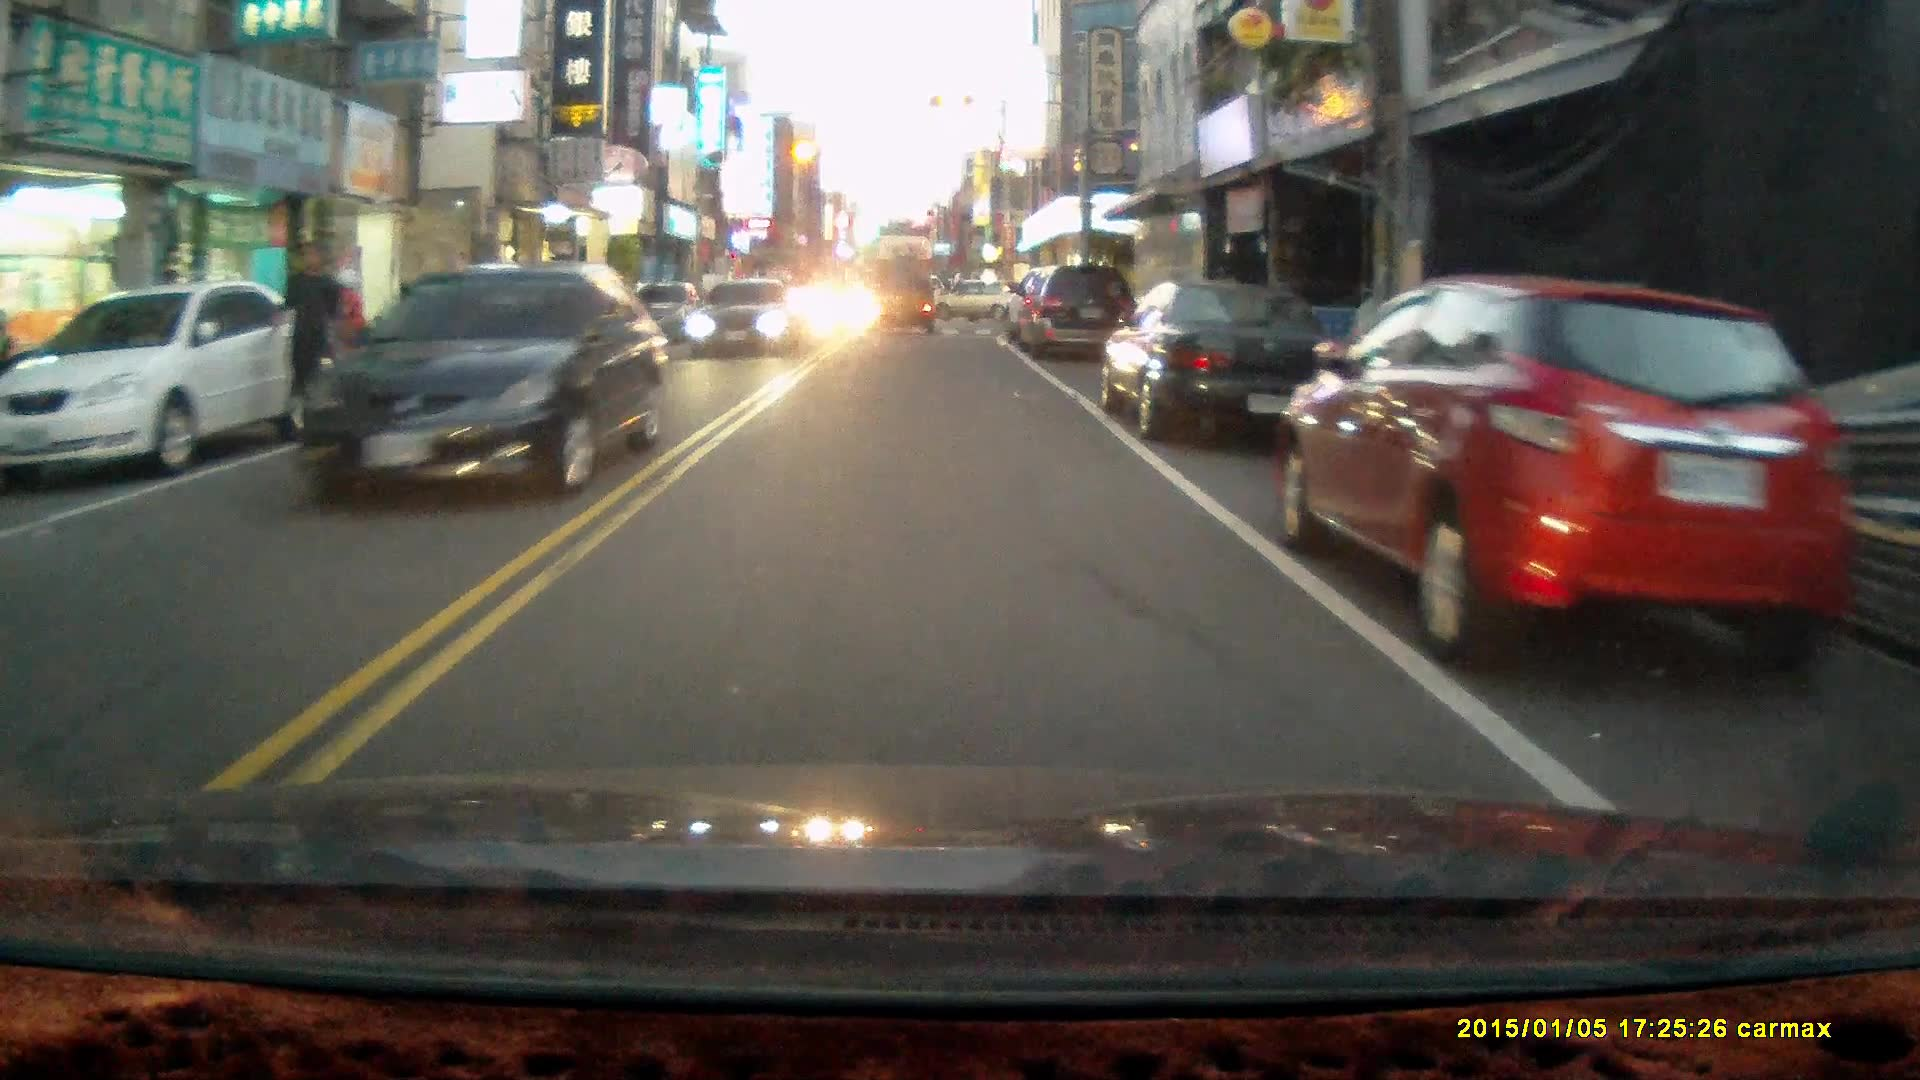pedestrian: (265, 238, 348, 440)
vehicle: (1280, 274, 1875, 679), (299, 265, 670, 507), (5, 281, 327, 491), (1099, 281, 1353, 447), (1011, 267, 1143, 366), (692, 284, 798, 366), (869, 260, 940, 342)
